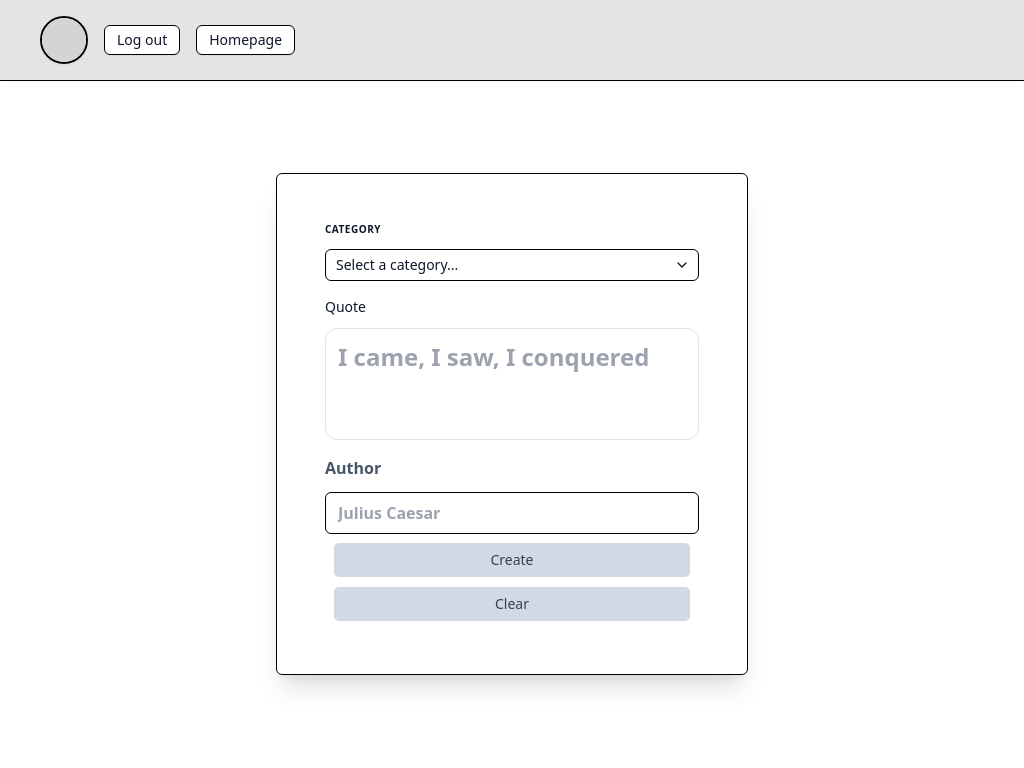
Scenario: AddNewQuotePage › shows a zod warning when the author name is too short
The image size is (1024, 768).
Type "A" into the field labelled "Author".
click(512, 513); type("A")  # box [325,492,699,534]
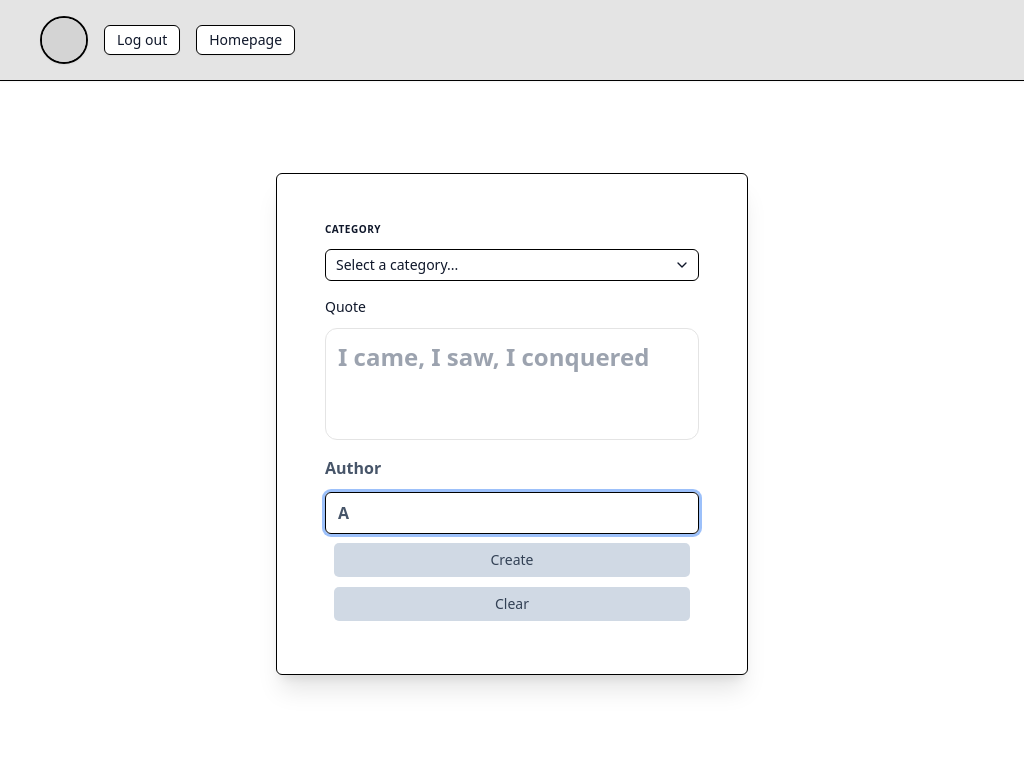
Press Tab
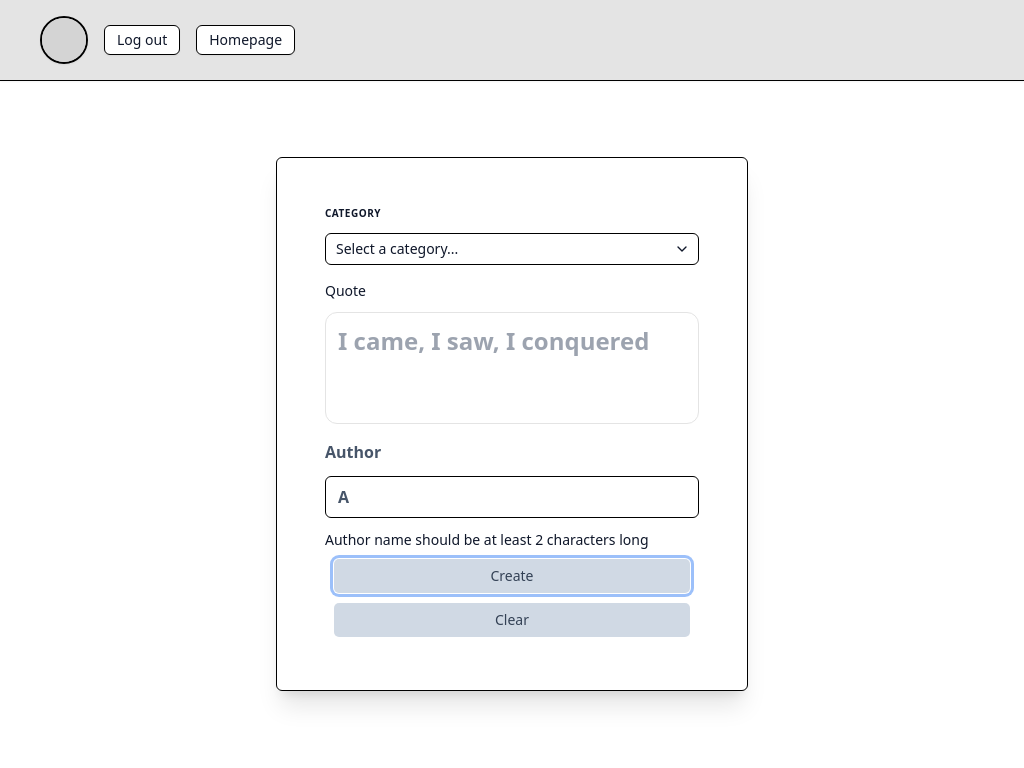
Expected: the message reads "Author name should be at least 2 characters long", [325,530,648,549]
